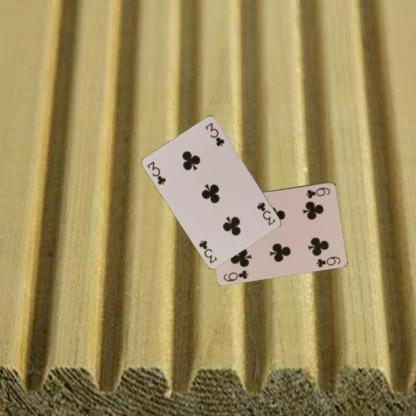3c: (254, 199, 277, 226), (145, 159, 168, 186)
6c: (303, 184, 332, 200), (221, 268, 250, 282)
